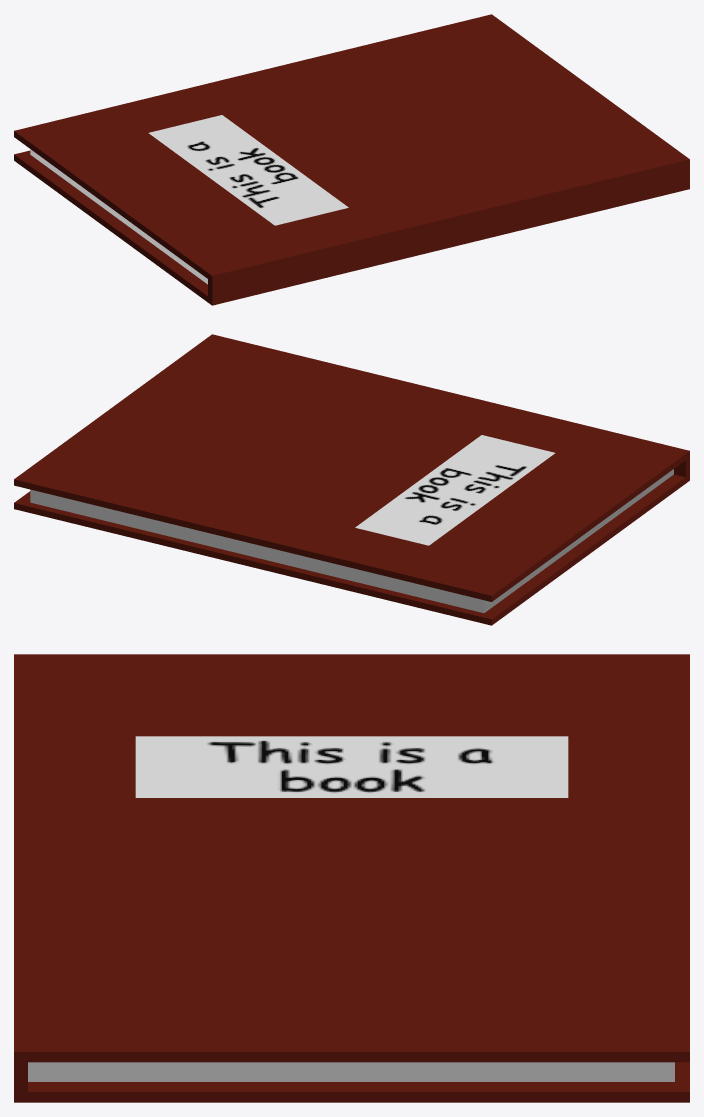
File: Book.fbx
The picture shows the model from 3 angles, top to bottom: view 1: azimuth 30°, elevation 25°; view 2: azimuth 150°, elevation 25°; view 3: azimuth 270°, elevation 25°; orthographic projection. The views are drawn at different scales.
Visible parts, largest first — view 1: Plane.001; view 2: Plane.001; view 3: Plane.001.
Boxes of the visible parts, x1,y1,x2,y2 form: Plane.001: [14, 14, 689, 305]; Plane.001: [14, 334, 689, 625]; Plane.001: [14, 654, 689, 1102].
Size of the model in its own units: 57.87 by 3.45 by 41.58.
